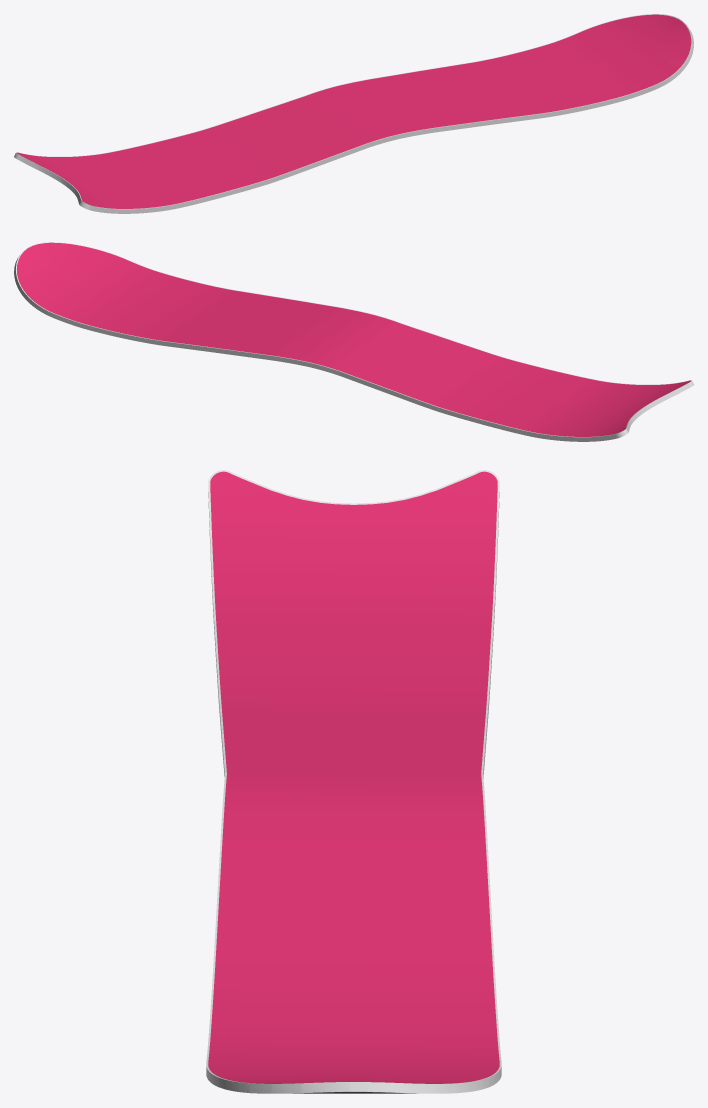
Rendered from board_directional_hybrid-camber.gltf.
3 views of the same model, one above another, from view 1: azimuth 30°, elevation 25°; view 2: azimuth 150°, elevation 25°; view 3: azimuth 270°, elevation 25° (orthographic). The views are drawn at different scales.
Parts seen in each view (by area): view 1: board-top, board-edge; view 2: board-top, board-edge; view 3: board-top, board-edge.
Boxes of the visible parts, box(x1,y1,x2,y2) form: board-top: box(17, 14, 691, 208); board-edge: box(14, 14, 693, 213); board-top: box(17, 242, 690, 436); board-edge: box(14, 242, 693, 441); board-top: box(208, 471, 499, 1083); board-edge: box(206, 470, 501, 1093).
Bounding box in the file's own units: 1.5 × 0.0705 × 0.3009.
